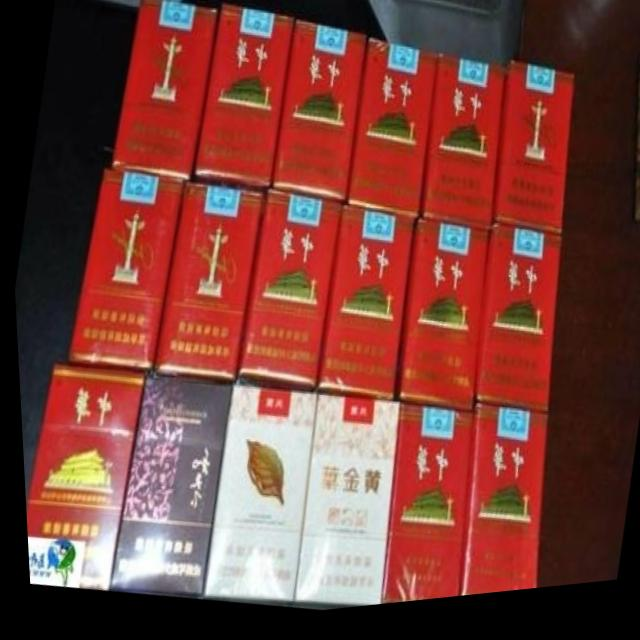box: (104, 380, 230, 603), (21, 364, 141, 592), (197, 392, 313, 607), (63, 170, 182, 373), (288, 399, 396, 614), (150, 183, 262, 382), (235, 195, 339, 393), (109, 0, 217, 184), (312, 213, 413, 408), (374, 410, 470, 611), (192, 8, 293, 193), (393, 227, 487, 419), (343, 46, 438, 227), (452, 413, 541, 605), (271, 26, 365, 207), (471, 234, 559, 423), (418, 61, 506, 237), (490, 71, 573, 247)
